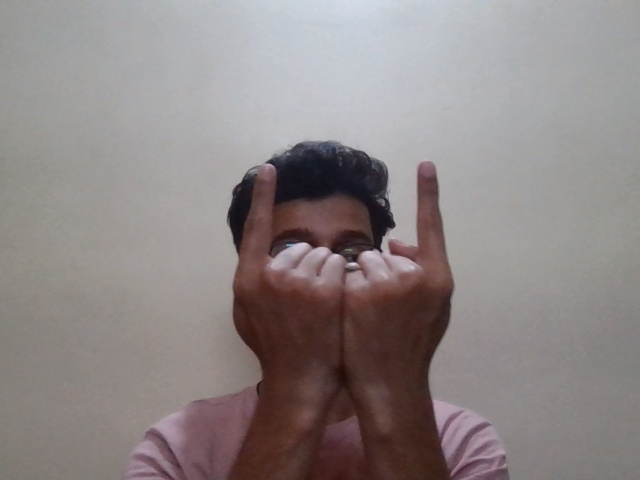when: (235, 158, 473, 391)
